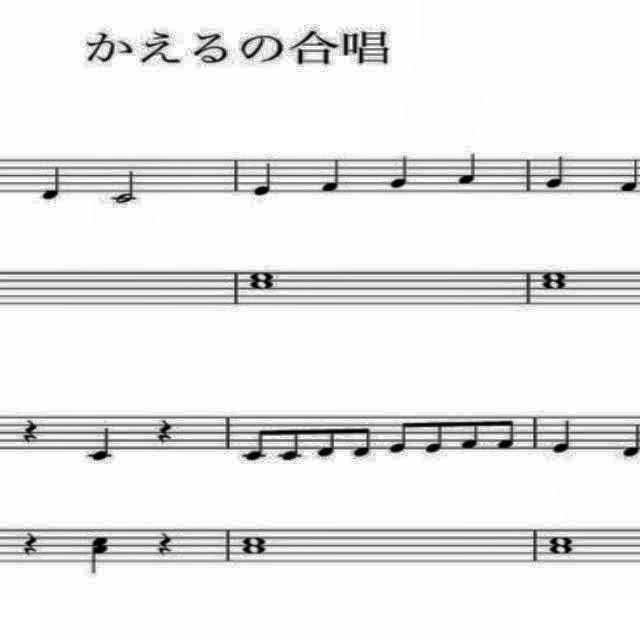Eighth-note: (274, 417, 310, 469), (238, 424, 270, 468), (315, 416, 341, 466), (492, 411, 522, 454), (350, 418, 378, 462), (422, 416, 450, 460), (387, 416, 411, 460), (458, 414, 484, 454)
Half-note: (110, 166, 146, 210)
Quarter-note: (82, 420, 118, 464), (538, 149, 572, 193), (250, 156, 282, 200), (386, 151, 418, 193), (450, 147, 482, 189), (550, 418, 578, 458), (40, 162, 66, 202), (318, 157, 344, 196), (616, 156, 640, 196), (620, 420, 640, 460)
Quarter-rest: (149, 527, 179, 559), (153, 414, 181, 446), (18, 531, 46, 557), (21, 415, 41, 445)
